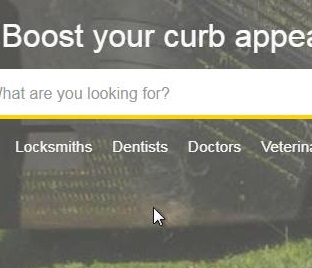cursor: (151, 205, 167, 228)
